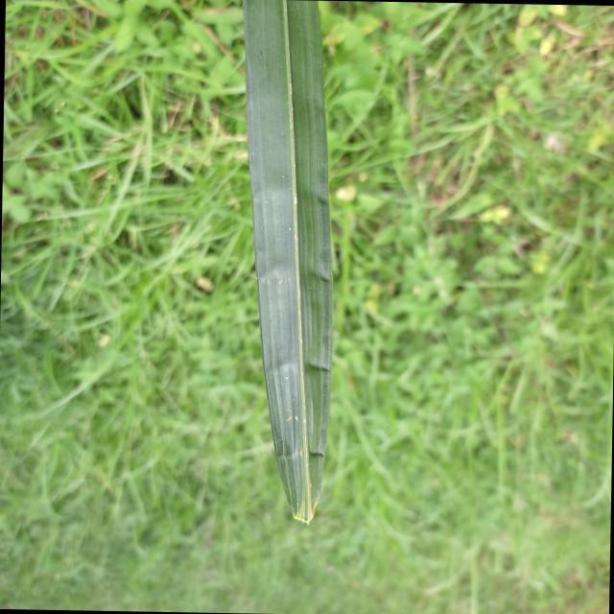Boron: (240, 0, 334, 528)
